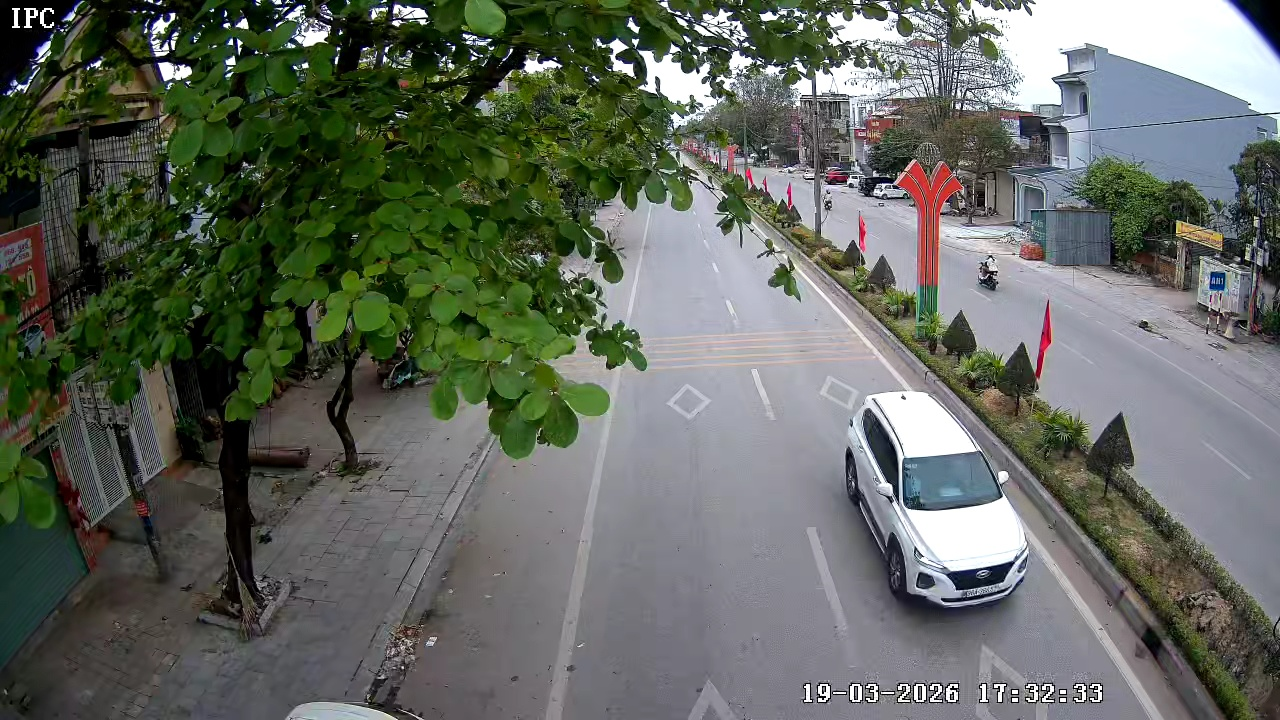car: (843, 389, 1030, 603)
motorbike: (976, 254, 1000, 292)
